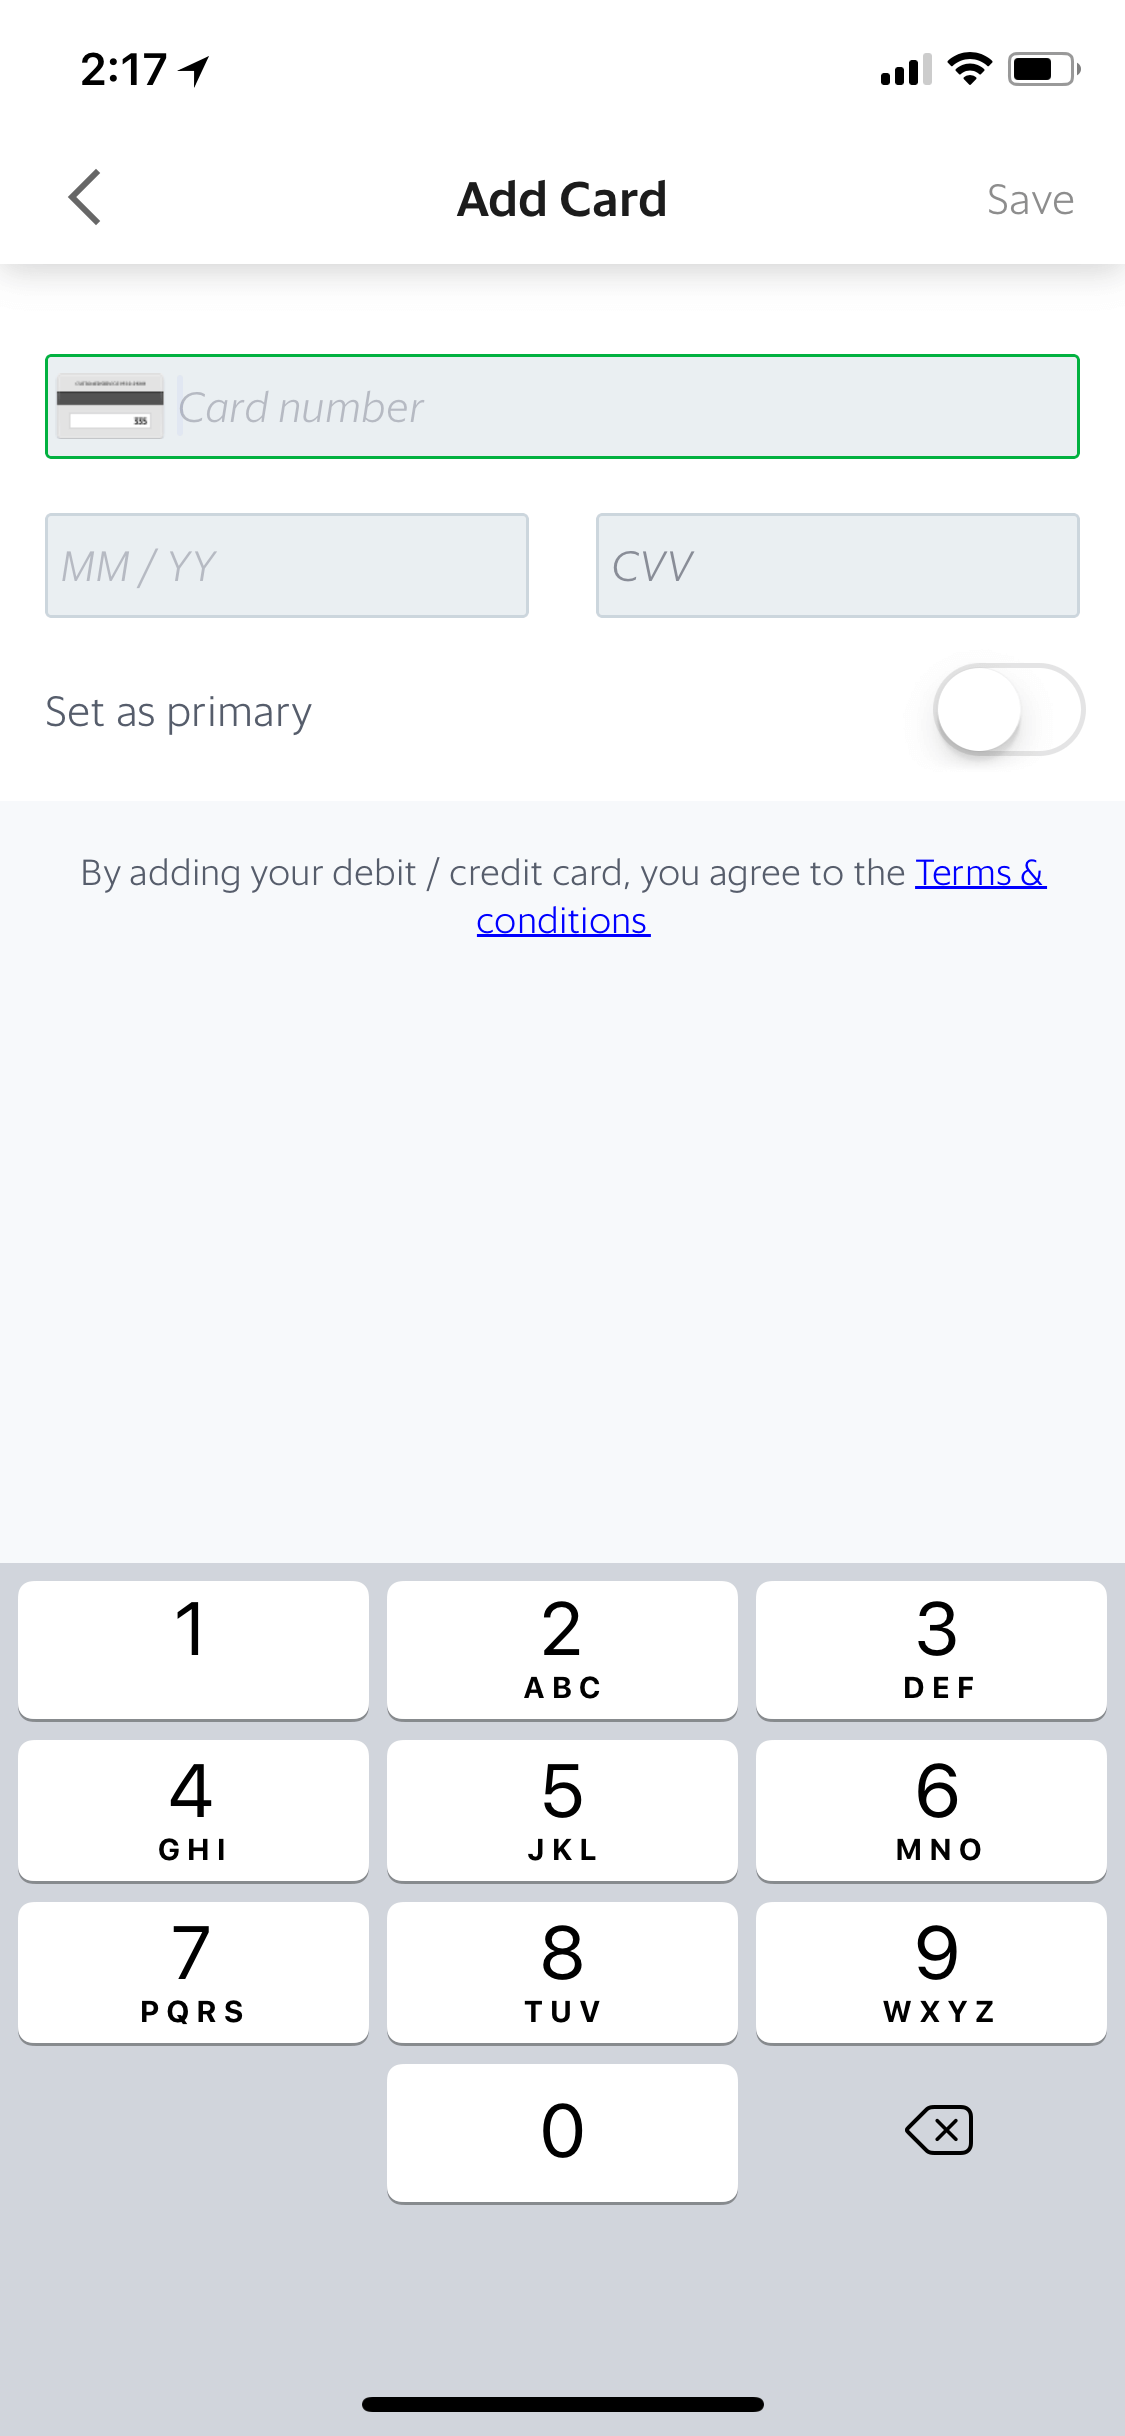Buttons: (960, 137, 1099, 247), (33, 134, 145, 247)
Switches: (926, 656, 1094, 774)
Text Fields: (33, 342, 1094, 486), (587, 486, 1091, 640), (28, 492, 544, 642)
